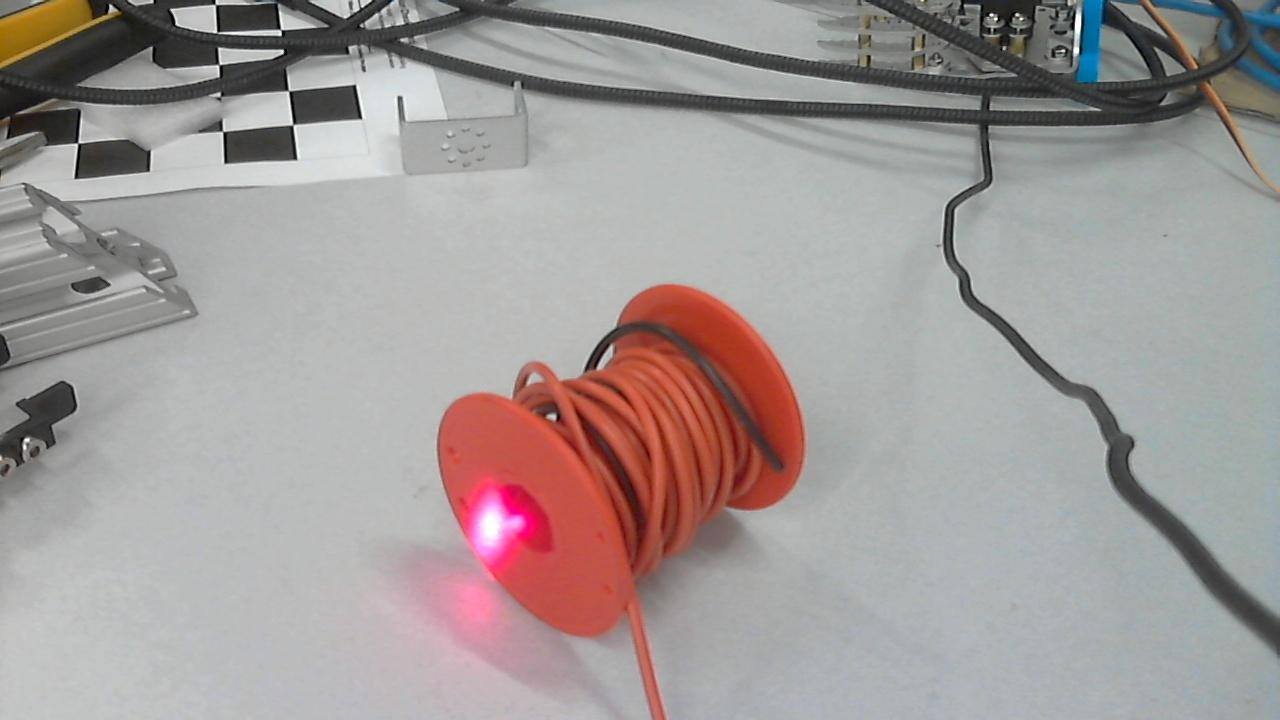Object wire spool -Material plastic - Color oranges - Pdfname ZryFz3DBSiO8: (425, 475, 542, 566)
